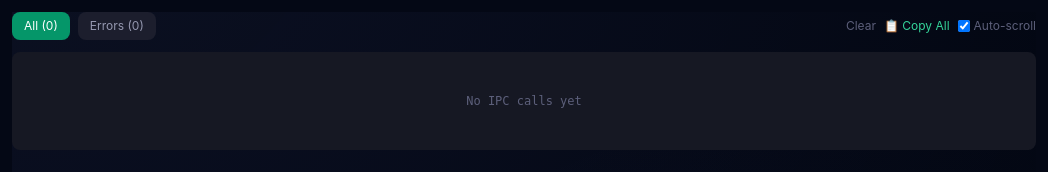
Test: ConsoleLog.svelte › shows the error-only filter and filters out non-errors
The width and height of the screenshot is (1048, 172).
Step 1. Click the button "Errors (0)" → (117, 26), box x1=78 y1=12 x2=156 y2=40
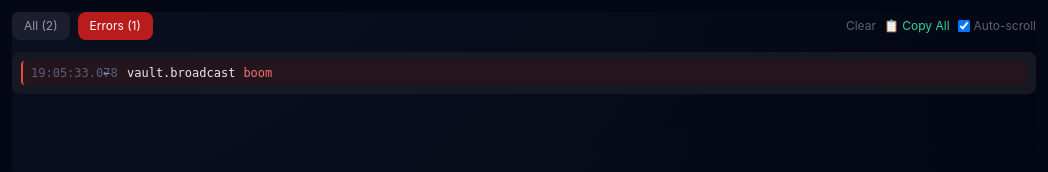
Now the text "boom" is shown, box x1=243 y1=65 x2=272 y2=81
